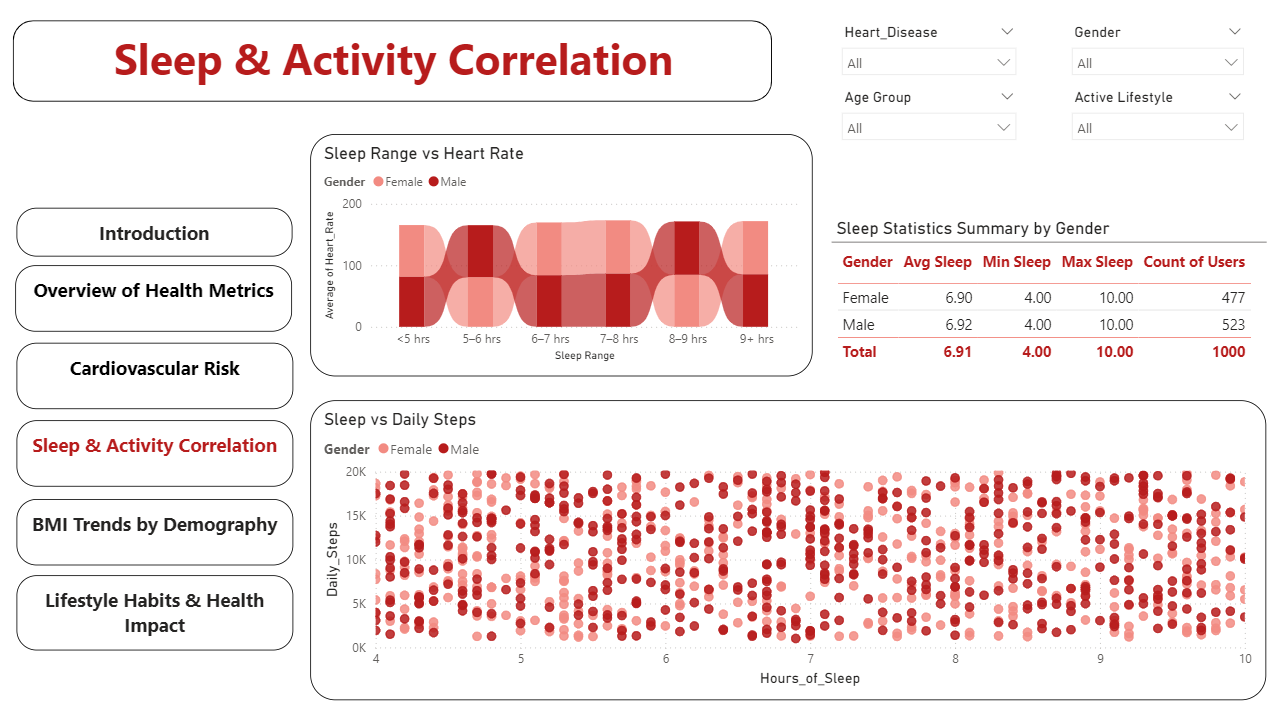

Layout of this report page (visuals, bound fields, positions):
{"tool":"powerbi","page":{"name":"Sleep & Activity Correlation","canvas":[1280,720],"ordinal":3},"visuals":[{"type":"scatterChart","title":"Sleep vs Daily Steps","fields":{"Y":["Health_Data.Daily_Steps"],"X":["Health_Data.Hours_of_Sleep"],"Series":["Health_Data.Gender"]},"box":[311,401.7,955.9,300.1],"z":0},{"type":"ribbonChart","title":"Sleep Range vs Heart Rate","fields":{"Category":["Health_Data.Sleep Range"],"Y":["Avg(Health_Data.Heart_Rate)"],"Series":["Health_Data.Gender"]},"box":[311,135.5,502.2,242],"z":1000},{"type":"tableEx","title":"Sleep Statistics Summary by Gender","fields":{"Values":["Health_Data.Gender","Avg(Health_Data.Hours_of_Sleep)","Min(Health_Data.Hours_of_Sleep)1","Max(Health_Data.Hours_of_Sleep)2","CountNonNull(Health_Data.ID)"]},"box":[832.2,218.2,435.3,159.4],"z":2000},{"type":"slicer","fields":{"Values":["Health_Data.Age Group"]},"box":[832.5,84.7,194.8,64.1],"z":3000},{"type":"slicer","fields":{"Values":["Health_Data.Gender"]},"box":[1062.4,20.6,192.4,64.1],"z":4000},{"type":"slicer","fields":{"Values":["Health_Data.Heart_Disease"]},"box":[832.5,20.6,194.8,64.1],"z":5000},{"type":"slicer","fields":{"Values":["Health_Data.Active Lifestyle"]},"box":[1062.5,85,192.5,63.8],"z":6000},{"type":"shape","box":[14,20.9,759.3,81.4],"z":7000},{"type":"textbox","box":[53.5,24.4,681.4,74.4],"z":8000},{"type":"textbox","box":[16.3,266.3,276.7,66.3],"z":9000},{"type":"textbox","box":[17.4,344.2,276.7,66.3],"z":10000},{"type":"textbox","box":[17.4,420.9,276.7,66.3],"z":11000},{"type":"textbox","box":[17.4,500,276.7,66.3],"z":12000},{"type":"textbox","box":[17.4,576.7,276.7,75.6],"z":13000},{"type":"shape","box":[15.7,343.7,275.9,66.6],"z":14000},{"type":"shape","box":[13.6,499.8,279.3,66.7],"z":15000},{"type":"shape","box":[15.8,266.8,277,66.7],"z":16000},{"type":"shape","box":[17,576.6,275.9,75.8],"z":17000},{"type":"textbox","box":[17,209.2,275.9,48.6],"z":18000},{"type":"shape","box":[15.8,209.2,277,48.6],"z":19000}]}

Visuals, with their boxes in screenshot pixels (x1, y1, x2, y2), scaled from the page's 1280x720 canvas onto the 1277x717 screenshot:
"Sleep vs Daily Steps" scatterChart: {"left": 310, "top": 400, "right": 1264, "bottom": 699}
"Sleep Range vs Heart Rate" ribbonChart: {"left": 310, "top": 135, "right": 811, "bottom": 376}
"Sleep Statistics Summary by Gender" tableEx: {"left": 830, "top": 217, "right": 1265, "bottom": 376}
slicer - Health_Data.Age Group: {"left": 831, "top": 84, "right": 1025, "bottom": 148}
slicer - Health_Data.Gender: {"left": 1060, "top": 21, "right": 1252, "bottom": 84}
slicer - Health_Data.Heart_Disease: {"left": 831, "top": 21, "right": 1025, "bottom": 84}
slicer - Health_Data.Active Lifestyle: {"left": 1060, "top": 85, "right": 1252, "bottom": 148}
shape: {"left": 14, "top": 21, "right": 771, "bottom": 102}
textbox: {"left": 53, "top": 24, "right": 733, "bottom": 98}
textbox: {"left": 16, "top": 265, "right": 292, "bottom": 331}
textbox: {"left": 17, "top": 343, "right": 293, "bottom": 409}
textbox: {"left": 17, "top": 419, "right": 293, "bottom": 485}
textbox: {"left": 17, "top": 498, "right": 293, "bottom": 564}
textbox: {"left": 17, "top": 574, "right": 293, "bottom": 650}
shape: {"left": 16, "top": 342, "right": 291, "bottom": 409}
shape: {"left": 14, "top": 498, "right": 292, "bottom": 564}
shape: {"left": 16, "top": 266, "right": 292, "bottom": 332}
shape: {"left": 17, "top": 574, "right": 292, "bottom": 650}
textbox: {"left": 17, "top": 208, "right": 292, "bottom": 257}
shape: {"left": 16, "top": 208, "right": 292, "bottom": 257}
